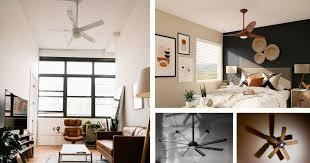TV: (2, 88, 29, 131)
bed: (190, 67, 295, 106)
chair: (59, 116, 86, 142)
console: (0, 133, 36, 163)
fan: (159, 116, 231, 160), (45, 1, 103, 50), (221, 8, 265, 41), (267, 126, 299, 160)
light: (134, 65, 149, 163), (292, 61, 310, 88), (224, 65, 238, 84)
sofa: (95, 126, 152, 163)
table: (57, 142, 92, 163), (291, 89, 310, 108), (218, 84, 234, 89)
